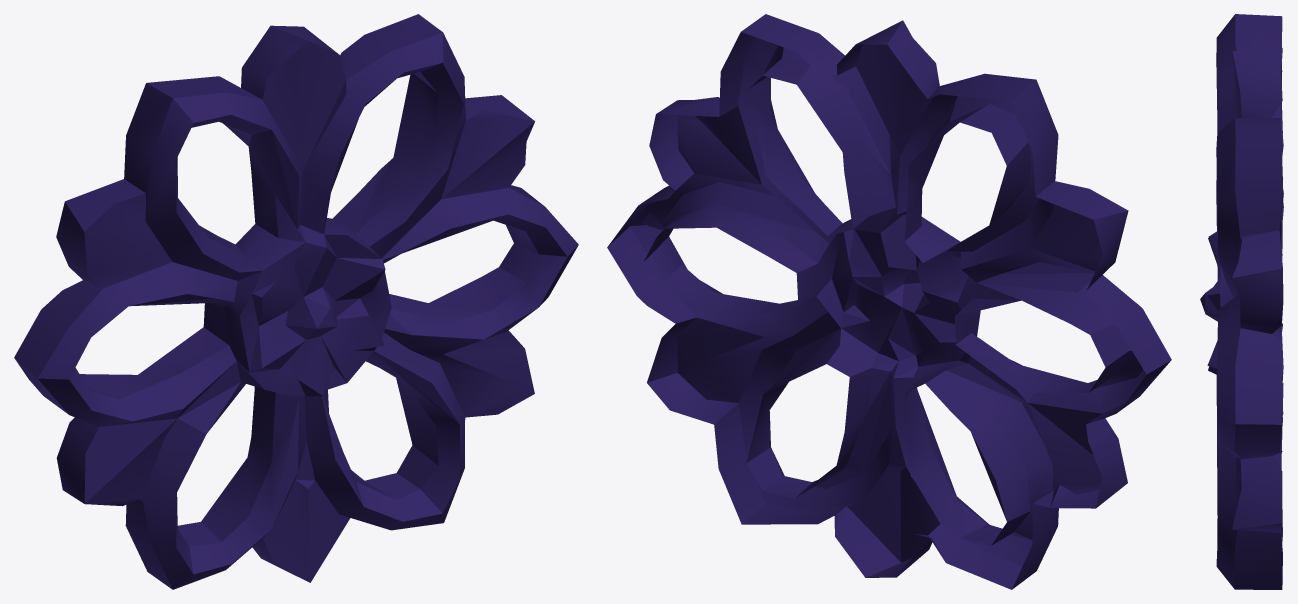
3 views of the same model, side by side, from view 1: azimuth 30°, elevation 25°; view 2: azimuth 150°, elevation 25°; view 3: azimuth 270°, elevation 25° (orthographic). The views are drawn at different scales.
Visible parts, largest first — view 1: SM_gateSQwall002; view 2: SM_gateSQwall002; view 3: SM_gateSQwall002.
Boxes of the visible parts, x1,y1,x2,y2 form: SM_gateSQwall002: [14, 14, 578, 589]; SM_gateSQwall002: [607, 14, 1171, 589]; SM_gateSQwall002: [1200, 14, 1283, 589].
Bounding box in the file's own units: 59.94 × 57.4 × 8.7.
